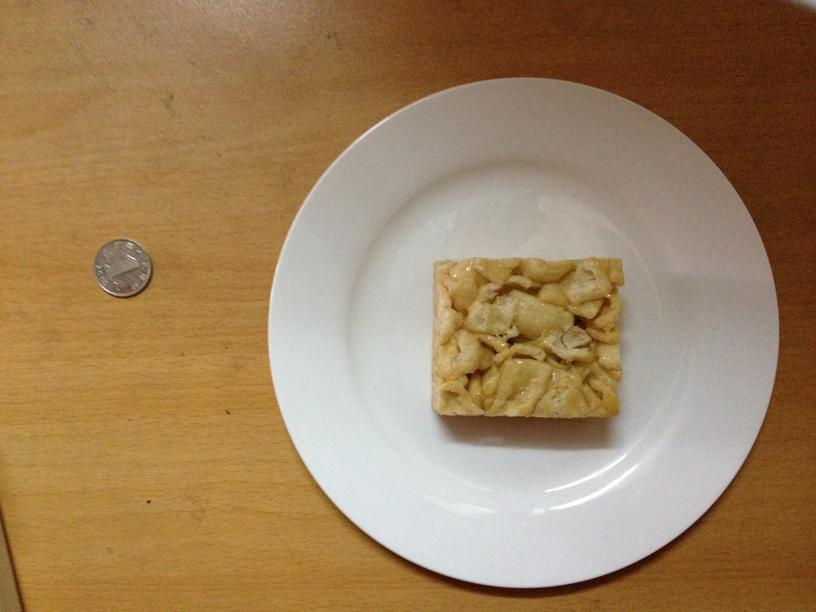coin: (89, 240, 153, 299)
sachima: (427, 253, 626, 422)
